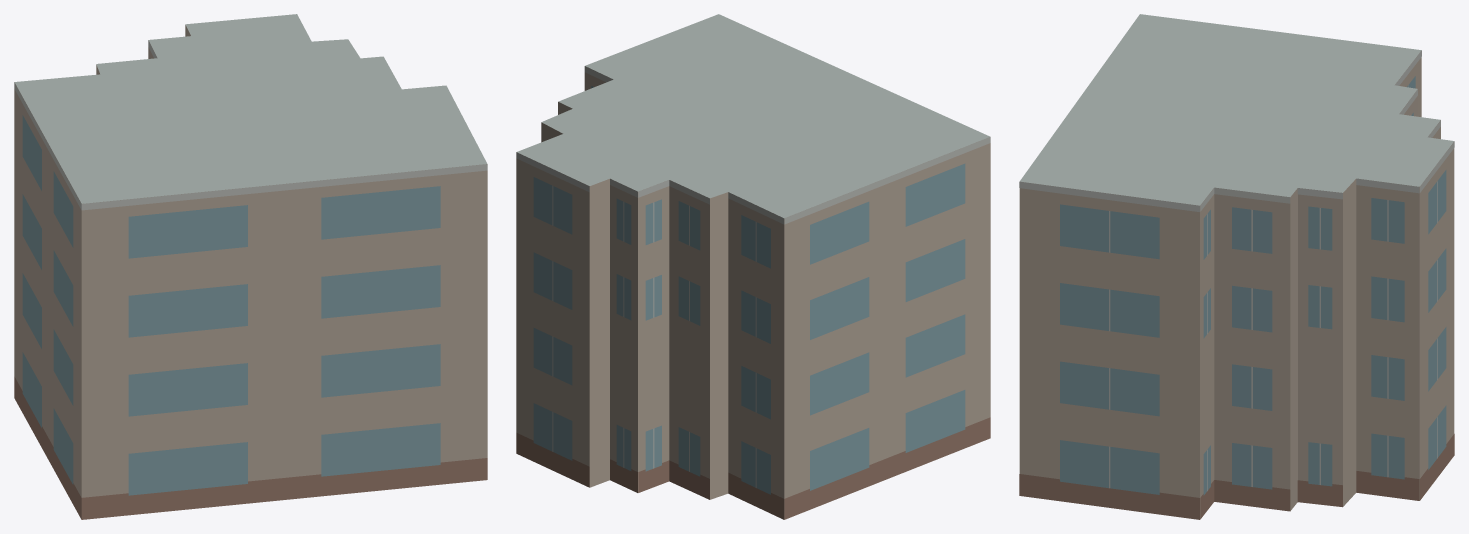
Rendered from survey-upis-32873380.glb.
3 views of the same model, side by side, from view 1: azimuth 30°, elevation 25°; view 2: azimuth 150°, elevation 25°; view 3: azimuth 270°, elevation 25° (orthographic). The views are drawn at different scales.
Parts seen in each view (by area): view 1: survey-upis-32873380.tmp; view 2: survey-upis-32873380.tmp; view 3: survey-upis-32873380.tmp.
Part boxes in pixels (x1,y1,x2,y2): survey-upis-32873380.tmp: (14, 14, 487, 519); survey-upis-32873380.tmp: (516, 14, 990, 519); survey-upis-32873380.tmp: (1019, 14, 1454, 519).
Bounding box in the file's own units: 15.31 × 11.7 × 14.69.
